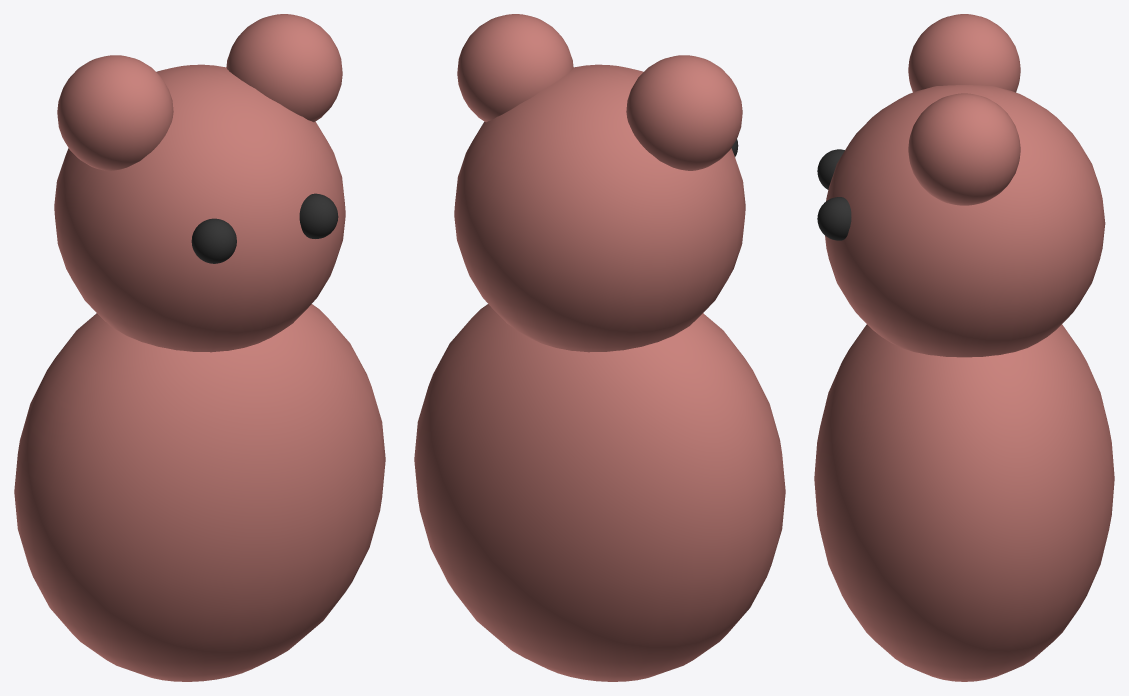
The model's file is toy.glb.
3 views of the same model, side by side, from view 1: azimuth 30°, elevation 25°; view 2: azimuth 150°, elevation 25°; view 3: azimuth 270°, elevation 25° (orthographic). The views are drawn at different scales.
Visible parts, largest first — view 1: body, head, ear-0.03, ear0.03, eye-0.03, eye0.03; view 2: body, head, ear-0.03, ear0.03; view 3: body, head, ear0.03, ear-0.03, eye0.03, eye-0.03.
Part boxes in pixels (x1,y1,x2,y2): body: [14, 304, 385, 681]; head: [54, 64, 345, 352]; ear-0.03: [57, 55, 173, 170]; ear0.03: [226, 14, 342, 122]; eye-0.03: [191, 218, 236, 263]; eye0.03: [299, 193, 338, 238]; body: [414, 304, 785, 681]; head: [454, 64, 745, 352]; ear-0.03: [626, 55, 742, 170]; ear0.03: [457, 14, 573, 122]; body: [814, 324, 1114, 681]; head: [825, 85, 1105, 357]; ear0.03: [908, 93, 1020, 205]; ear-0.03: [908, 14, 1020, 92]; eye0.03: [817, 197, 851, 240]; eye-0.03: [817, 149, 844, 189].
Size of the model in its own units: 0.12 by 0.214 by 0.096.
